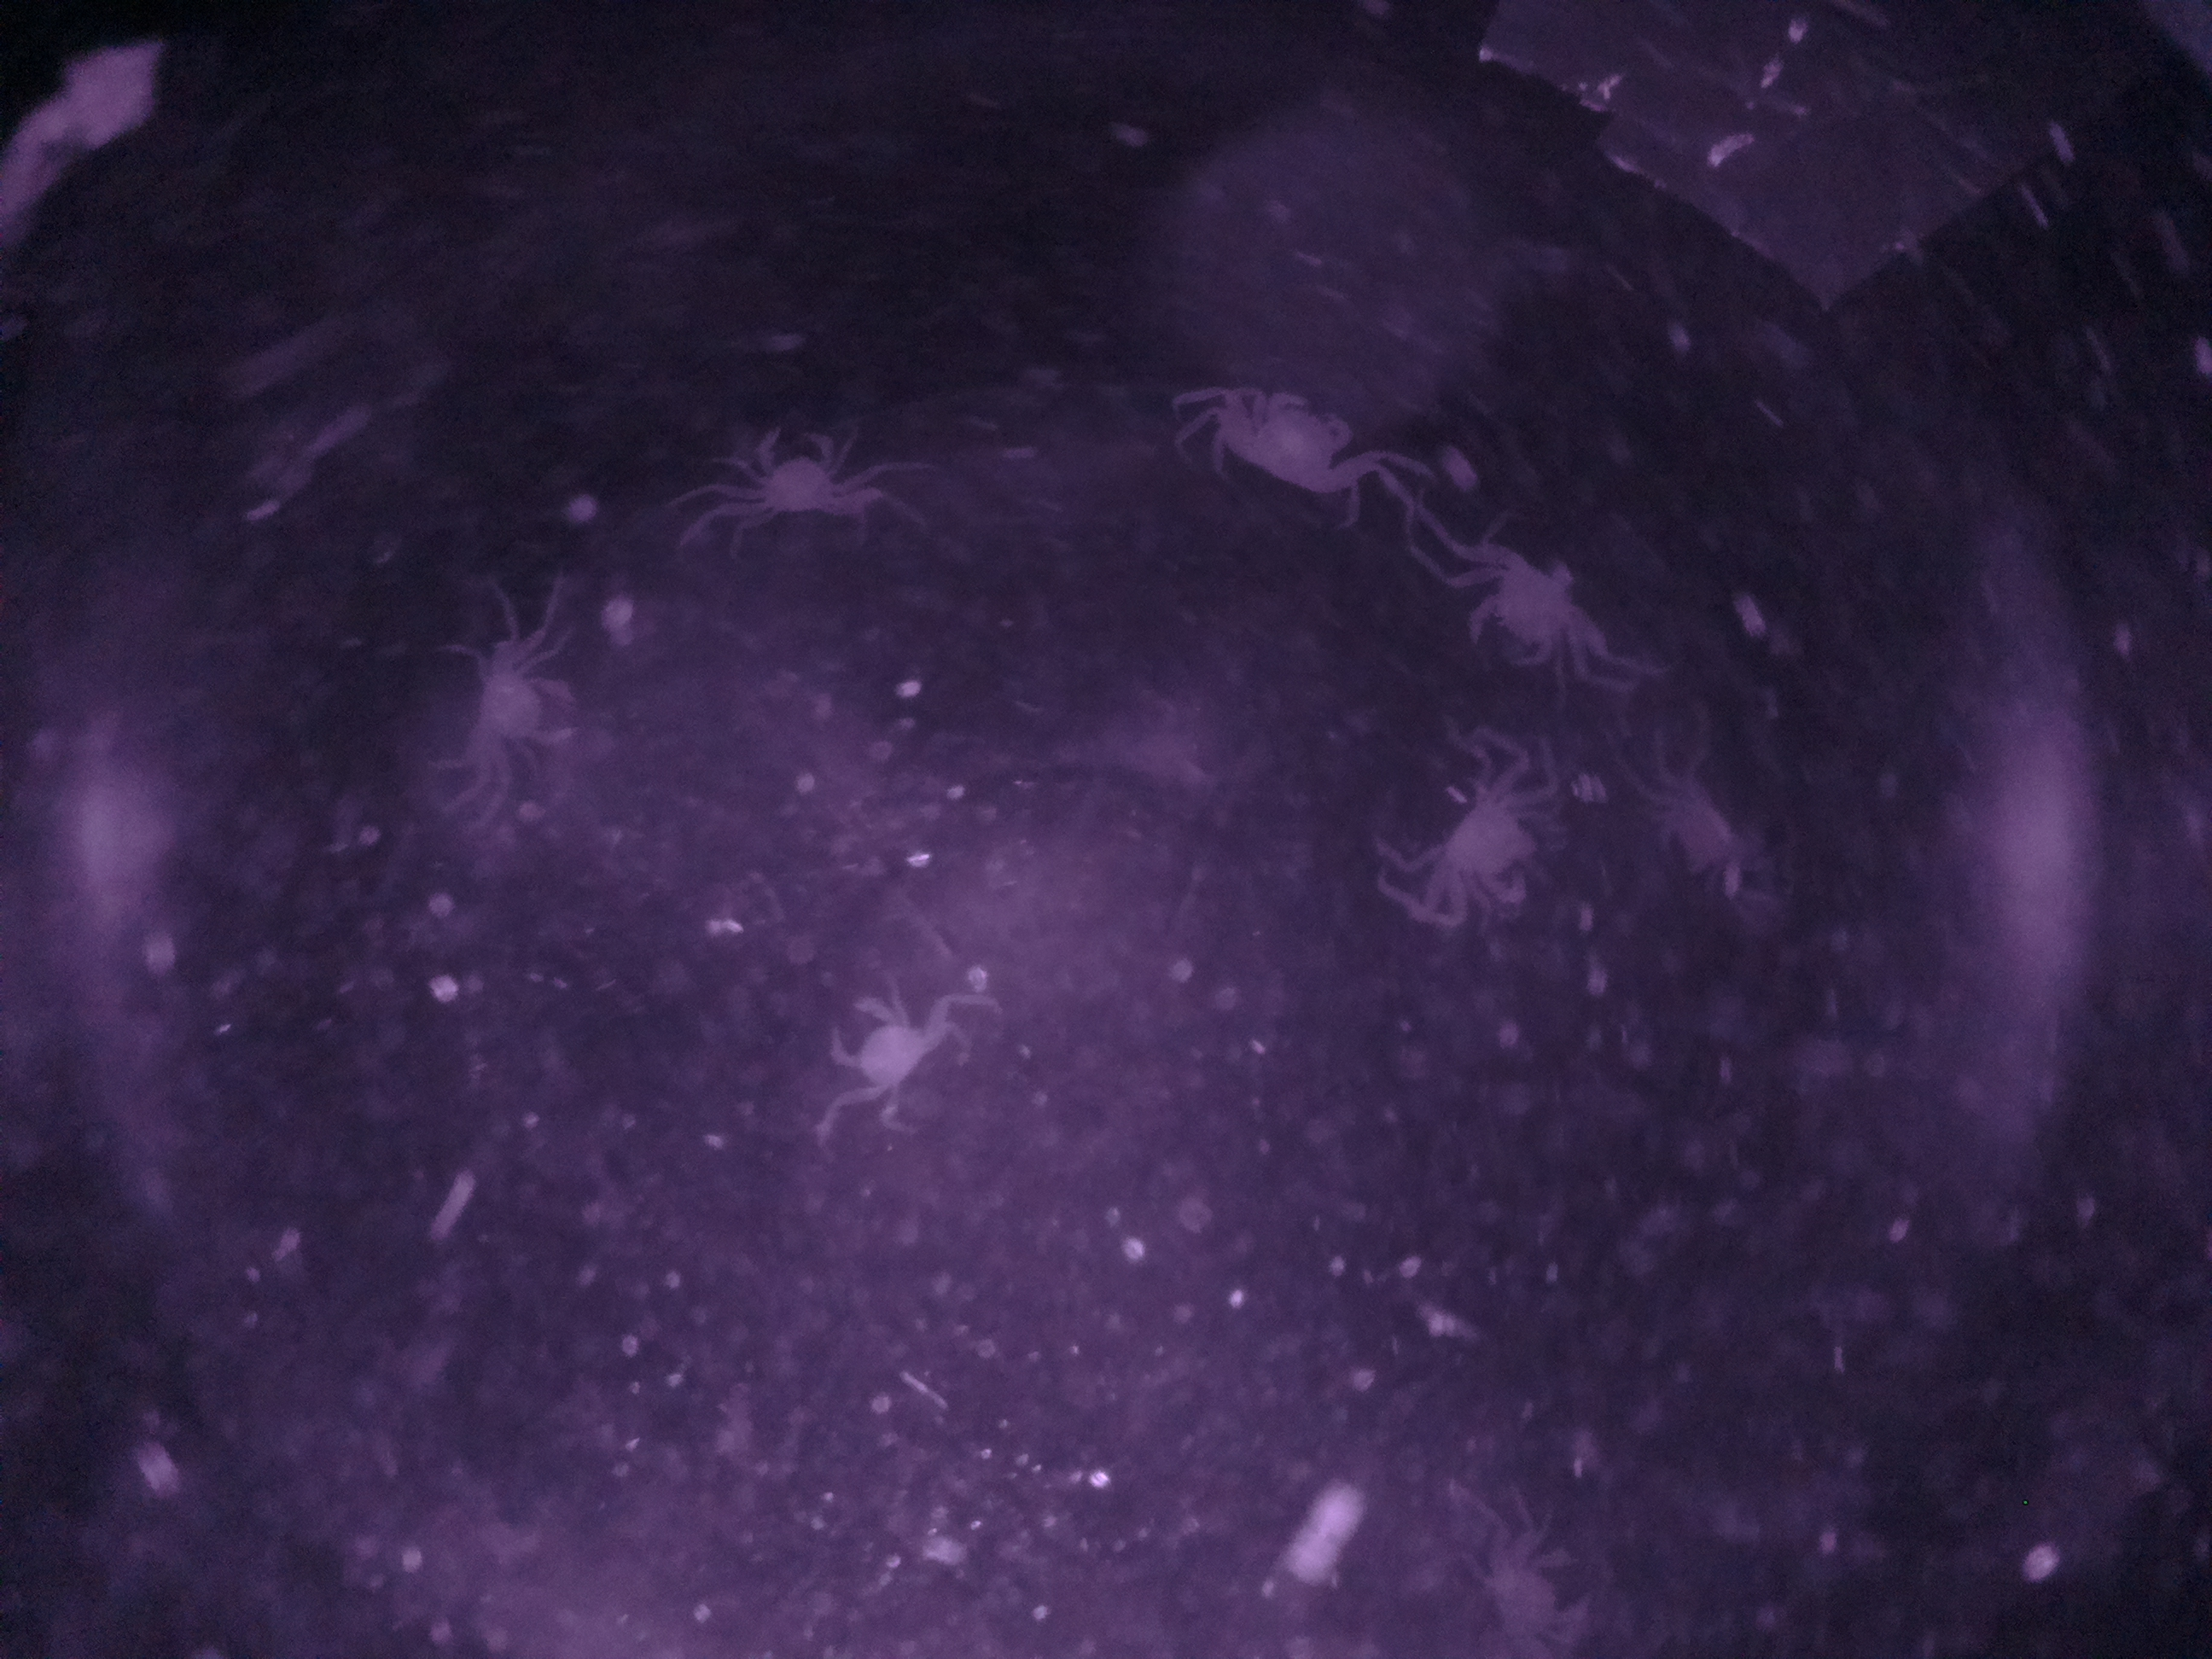Crab: (1406, 749, 1575, 932), (1442, 537, 1620, 681), (1209, 375, 1379, 516), (446, 633, 604, 772), (732, 408, 859, 551)
